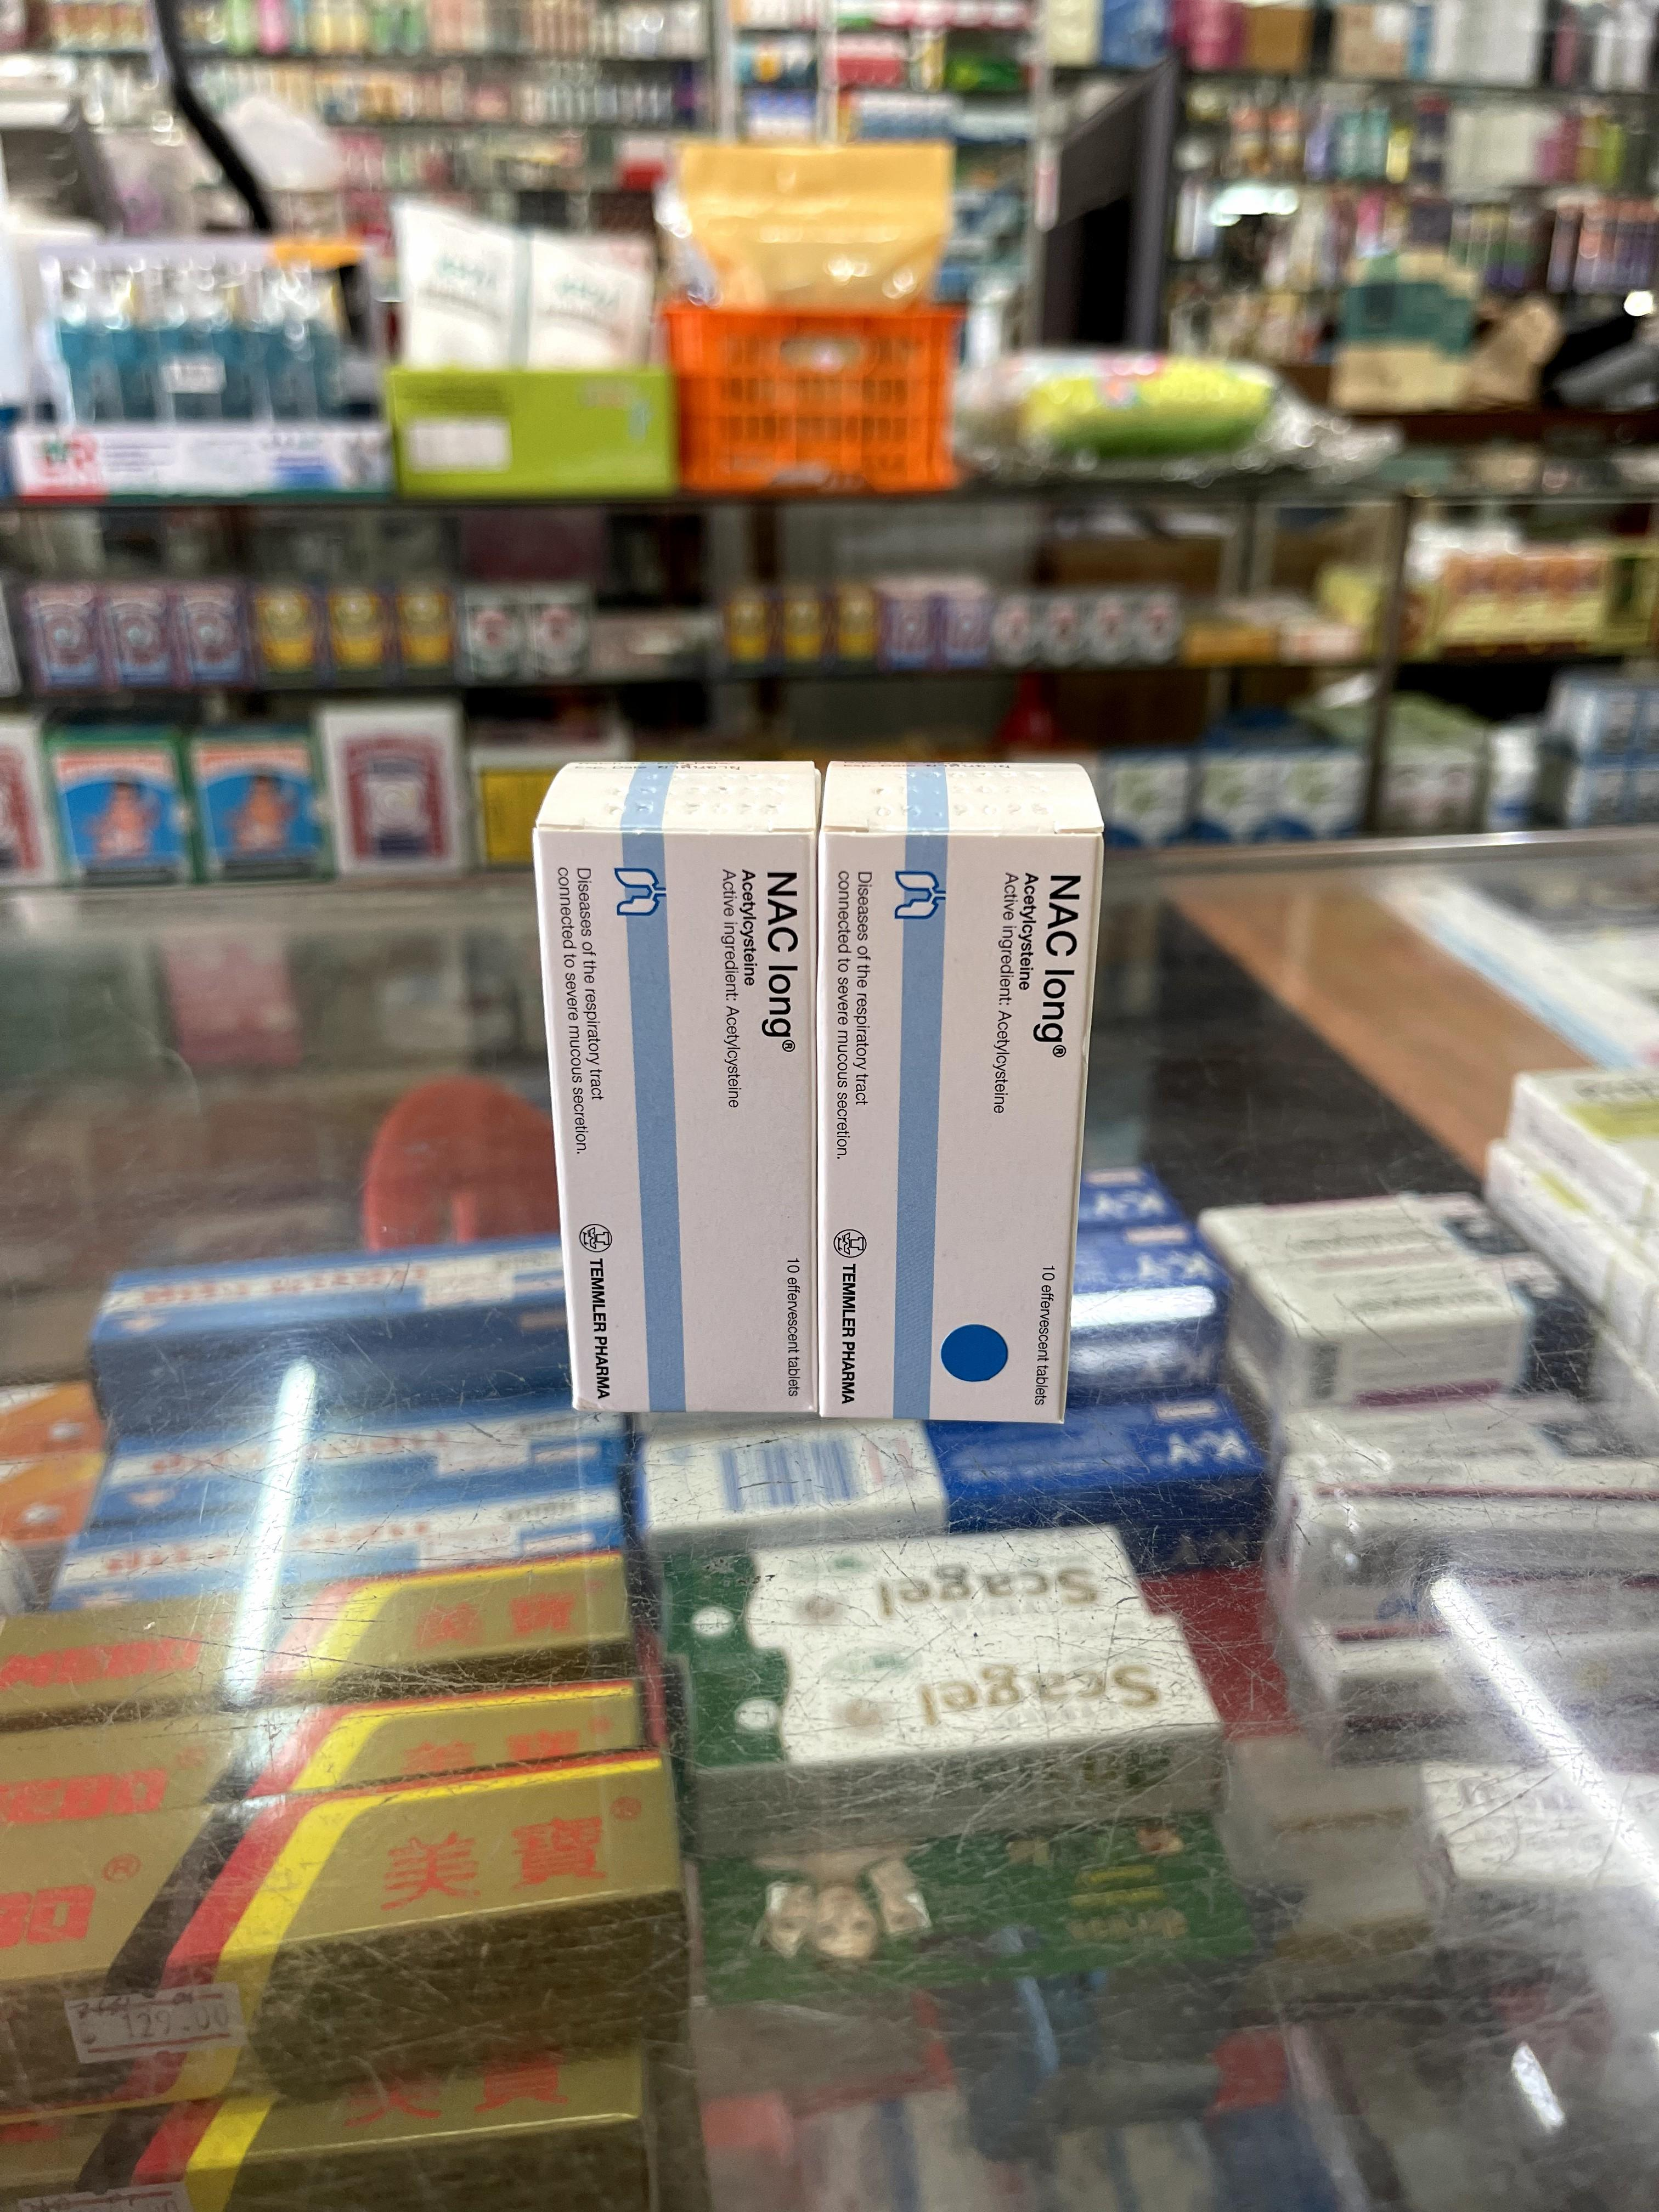Nac-Long: (530, 749, 823, 1418), (821, 758, 1103, 1430)
